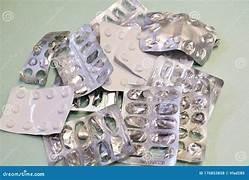pill_Strip: (148, 59, 223, 162), (44, 105, 132, 165), (122, 86, 181, 165), (53, 25, 112, 96), (140, 12, 218, 64), (147, 56, 223, 108), (0, 86, 73, 134), (99, 22, 145, 90), (177, 79, 211, 162), (20, 31, 69, 85), (69, 25, 112, 85), (21, 32, 68, 84), (115, 26, 157, 79), (115, 26, 156, 79), (90, 0, 147, 38), (90, 0, 146, 24), (71, 87, 122, 111), (71, 88, 122, 111), (43, 133, 68, 164), (134, 11, 171, 29), (163, 50, 193, 66), (53, 72, 62, 85), (210, 93, 216, 101)
